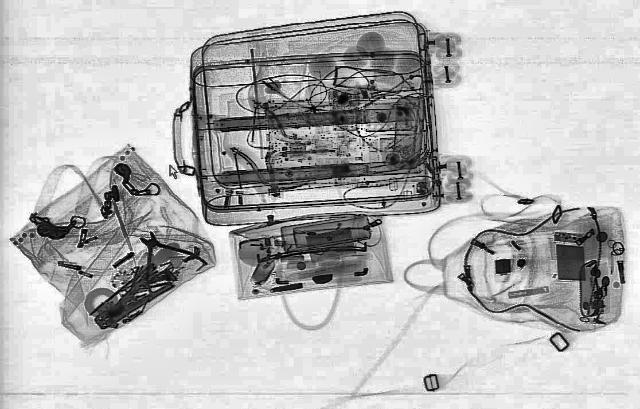Pliers: (80, 270, 176, 332), (110, 224, 208, 284)
